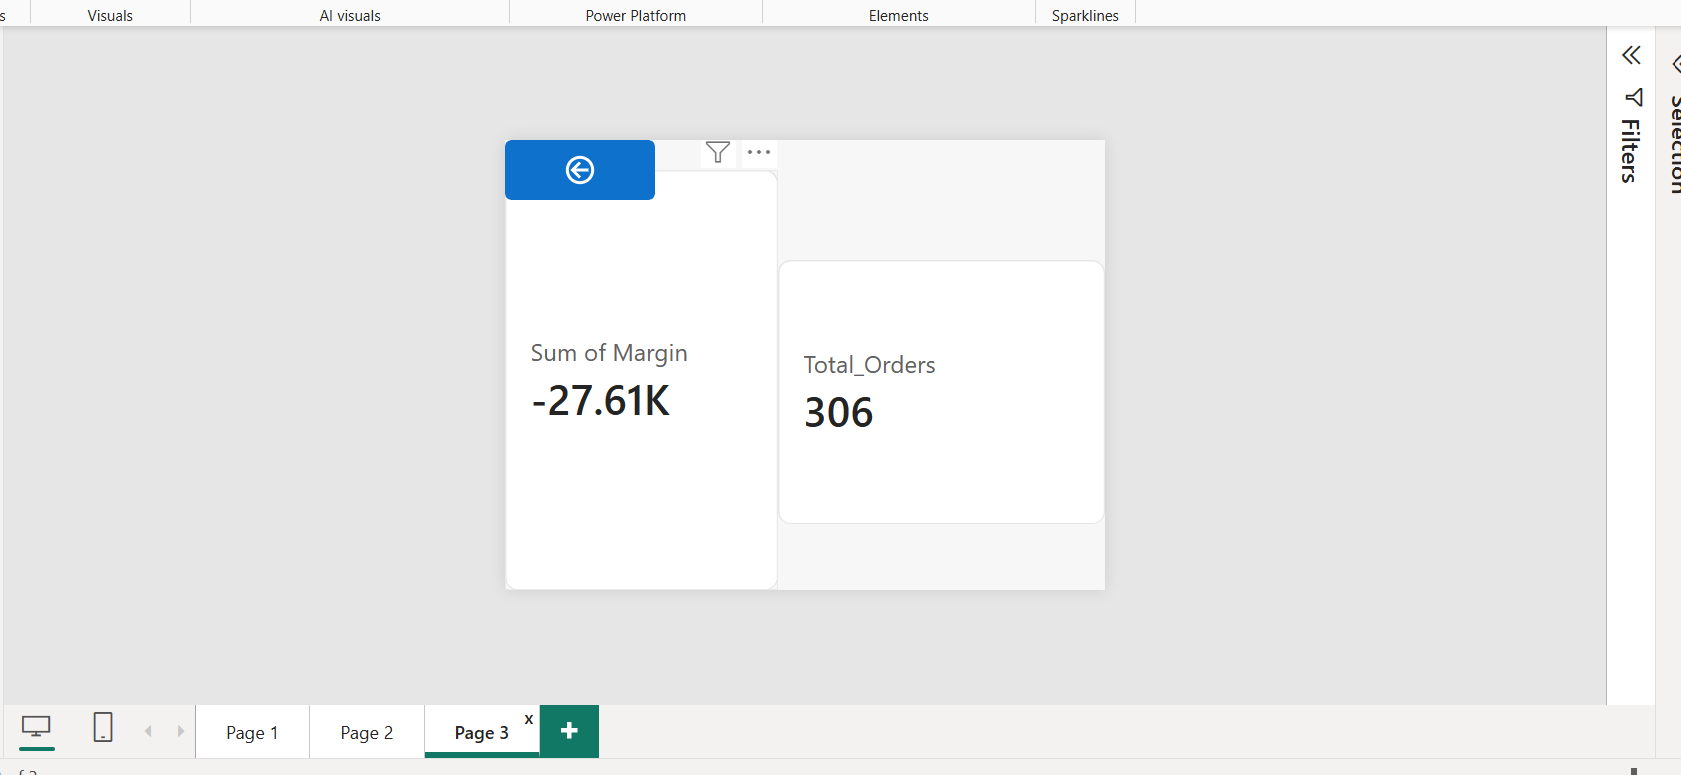

The dashboard page shown, as its layout file describes it:
{"tool":"powerbi","page":{"name":"Page 3","canvas":[400,300],"ordinal":2},"visuals":[{"type":"cardVisual","fields":{"Data":["Sum(Sales.Margin)"]},"box":[0,20,182,280],"z":0},{"type":"cardVisual","fields":{"Data":["Sales.Total_Orders"]},"box":[182,80,218.3,175.7],"z":1},{"type":"actionButton","box":[0,0,100,40],"z":2}]}

Visuals, with their boxes on the page's 400x300 design canvas (x1, y1, x2, y2). These are canvas units, not pixel positions in the 1681x775 screenshot, which may show the page scaled, cropped or inside an application window:
cardVisual - Sum(Sales.Margin): {"left": 0, "top": 20, "right": 182, "bottom": 300}
cardVisual - Sales.Total_Orders: {"left": 182, "top": 80, "right": 400, "bottom": 256}
actionButton: {"left": 0, "top": 0, "right": 100, "bottom": 40}
